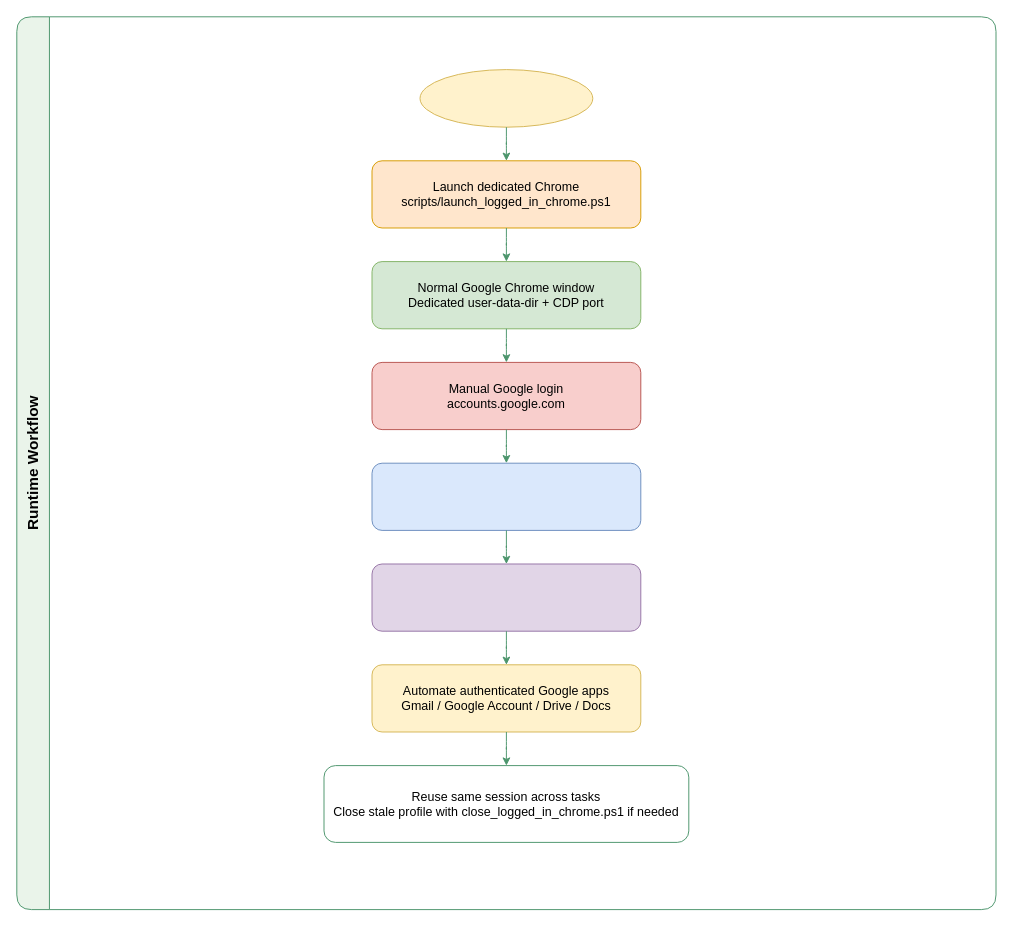
Some shapes in this 1013 by 926 pixel diagram are drawn without their labels. The shapes that lost their labels are listed below. From the top down, each one's centre as x and y in pixels, then its label:
At point (506, 98): "User Starts the flow".
At point (506, 496): "Verify CDP endpoint scripts/check_cdp_port.ps1".
At point (506, 597): "Attach from js_repl chromium.connectOverCDP(...)".
